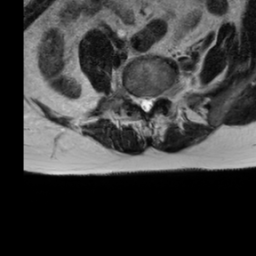CCS_normal: (143, 92, 149, 119)
LFS_stenosis: (156, 88, 161, 104)
LLS_normal: (149, 92, 155, 112)
RFS_normal: (130, 89, 138, 108)
RLS_normal: (137, 90, 144, 113)
